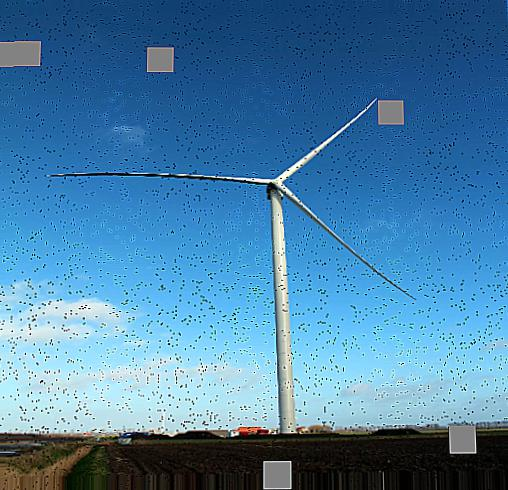wind turbine: (45, 97, 421, 435)
